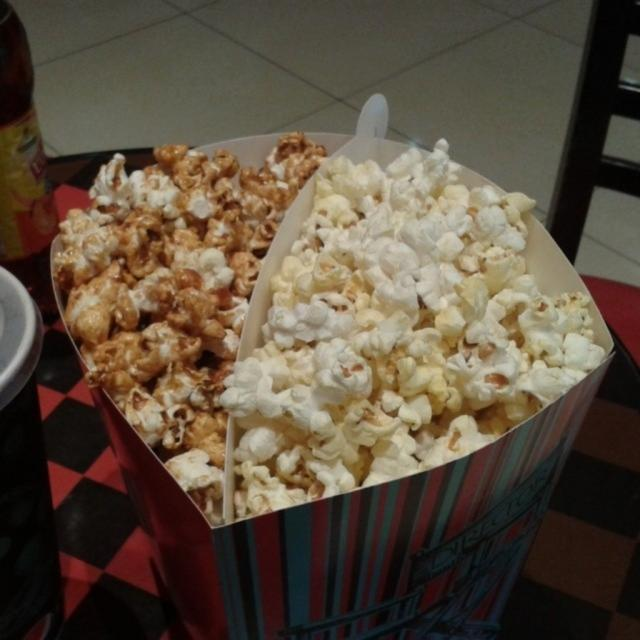Popcorn: (50, 128, 609, 528)
